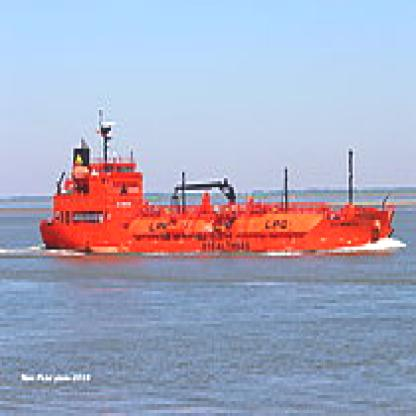Tanker: (48, 134, 392, 262)
